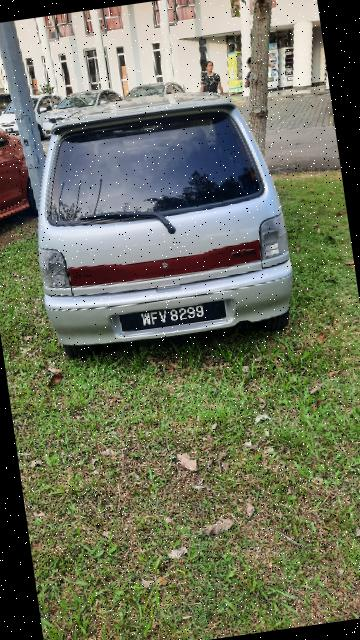License_Plate: (110, 288, 235, 340)
car: (13, 75, 325, 383)
